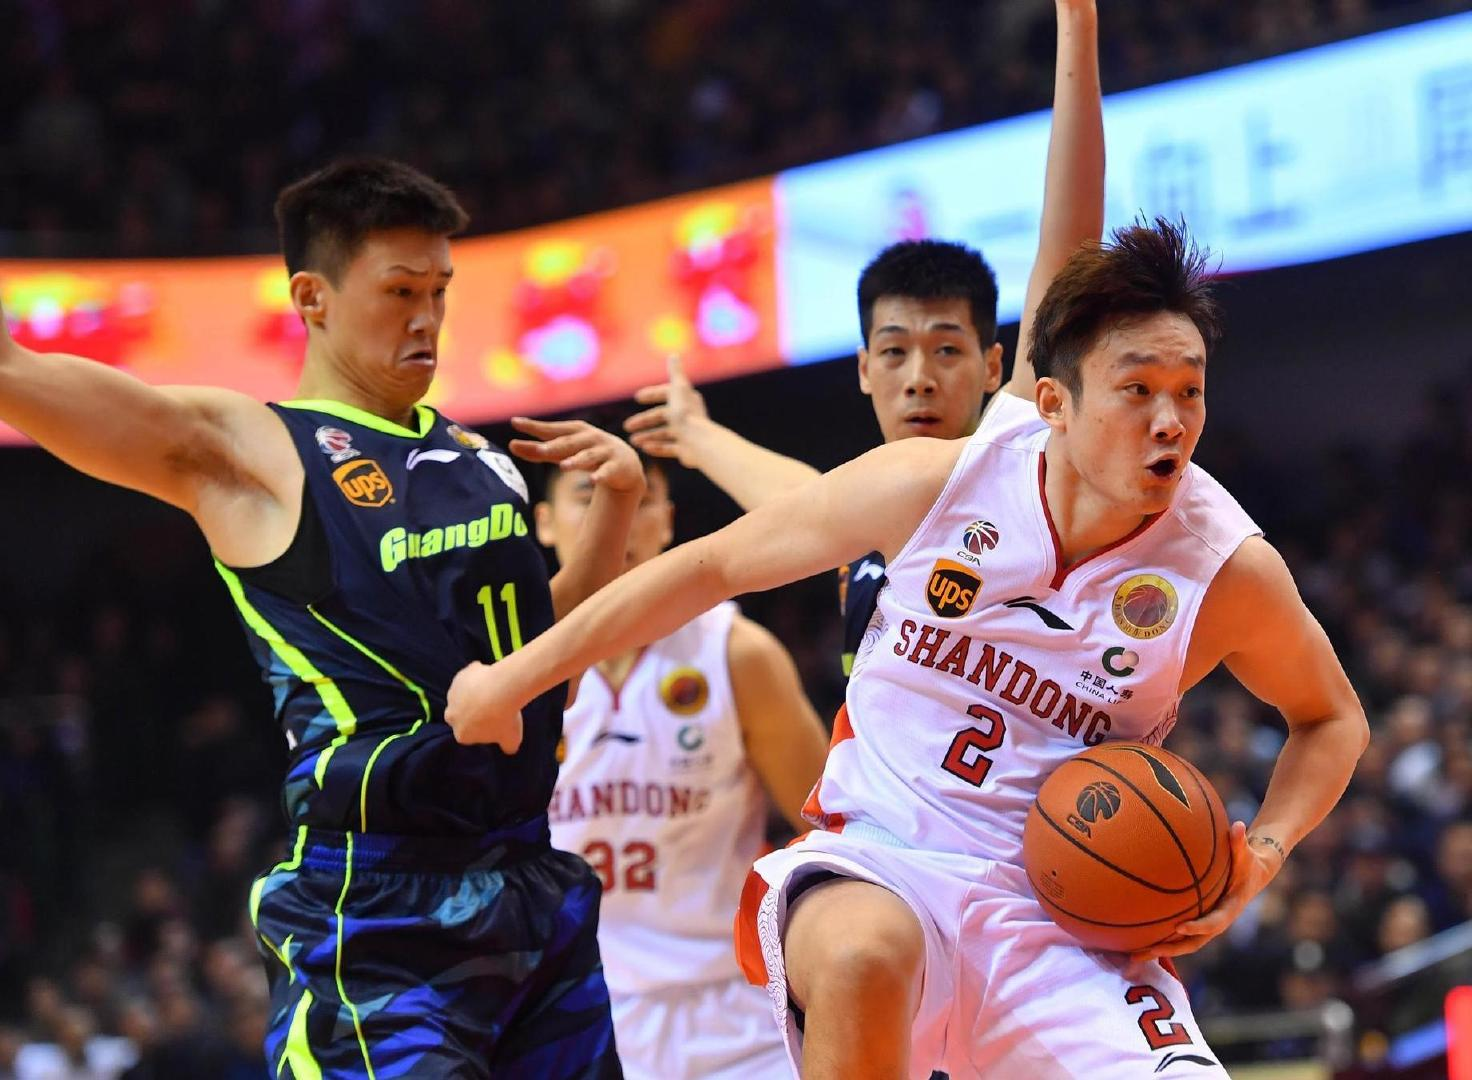ball: (1021, 738, 1218, 947)
